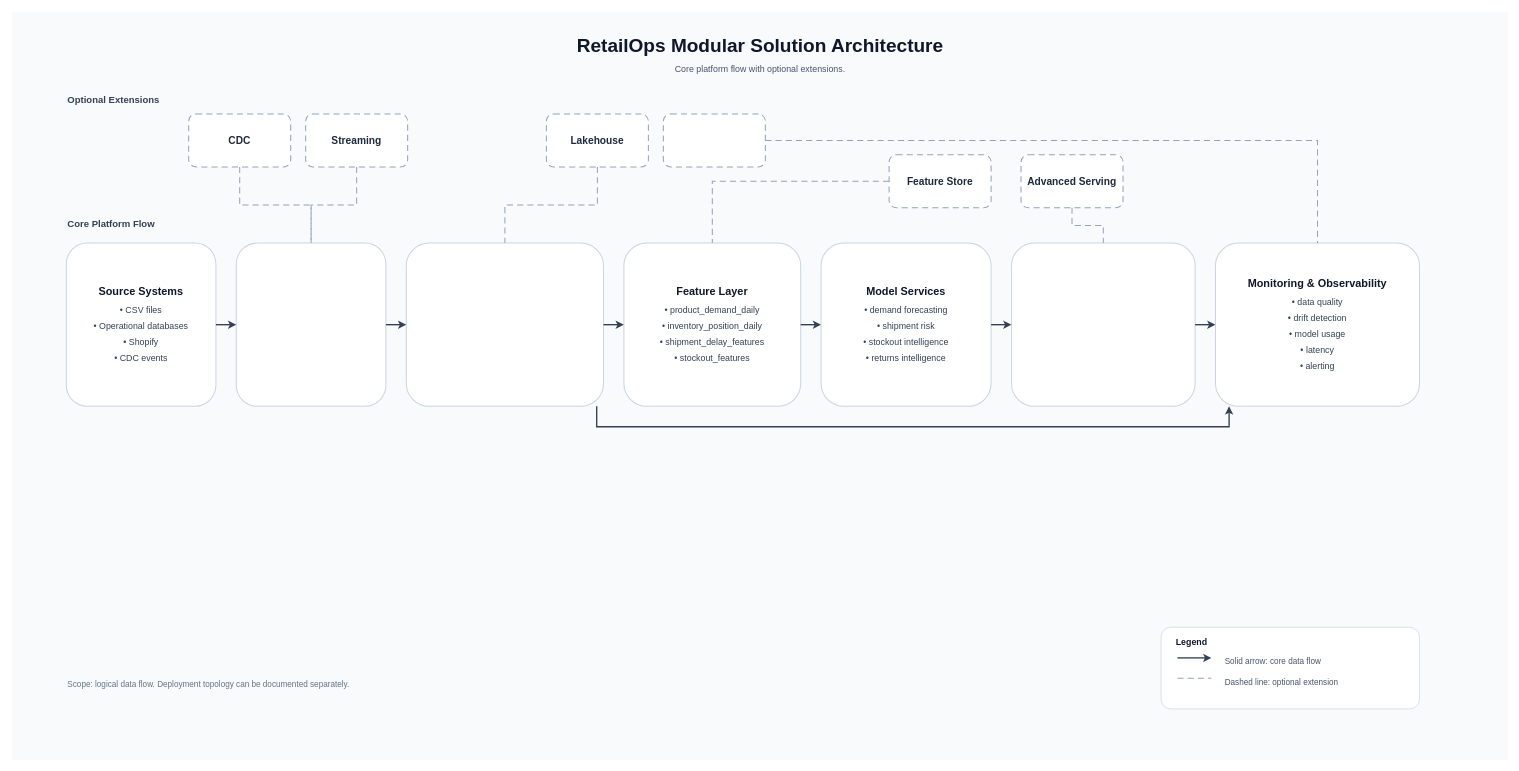
The diagram is 1519 pixels wide and 771 high, and some of its shapes have lost their labels. Each missing label, with the box of its shape:
Data Platform / Data Model • raw • staging • mart • ops • predictions • features: (405, 242, 604, 407)
Ingestion Services • CSV connector • DB connector • API import • CDC ingestion: (235, 242, 386, 407)
Metadata: (663, 113, 766, 167)
Serving & Consumption • FastAPI • dashboards • exports • setup wizard: (1011, 242, 1195, 407)
